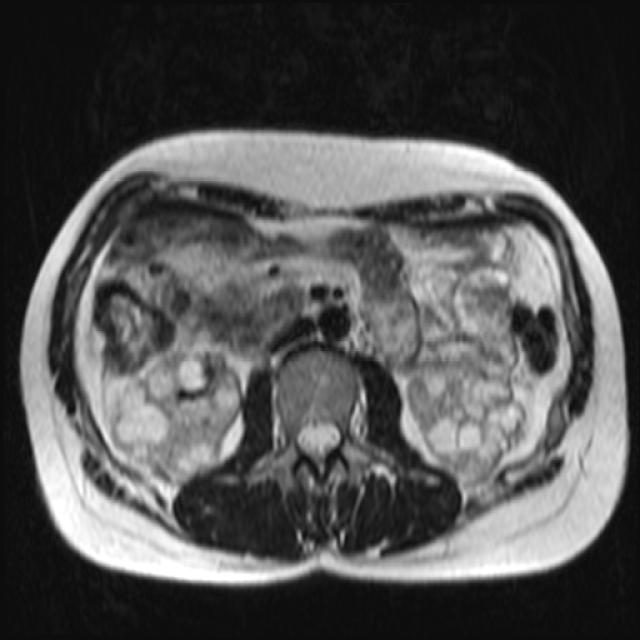sag: (105, 350, 245, 486)
sol: (408, 334, 527, 484)
